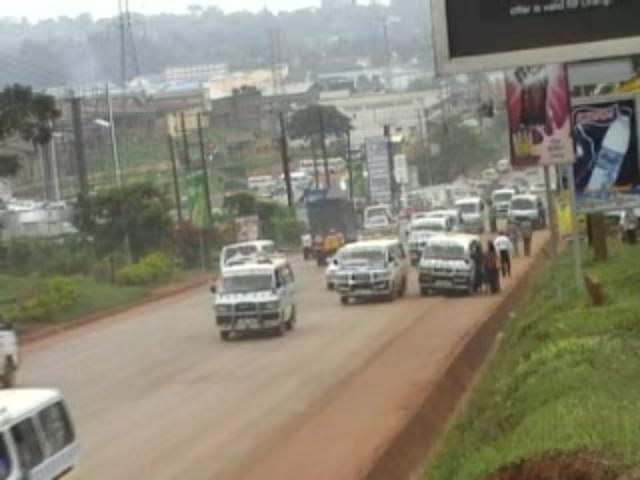van: (211, 259, 293, 337), (331, 239, 404, 301), (416, 232, 478, 293), (406, 215, 452, 263), (508, 193, 543, 229), (455, 197, 487, 232), (421, 210, 457, 233), (491, 188, 516, 215)
